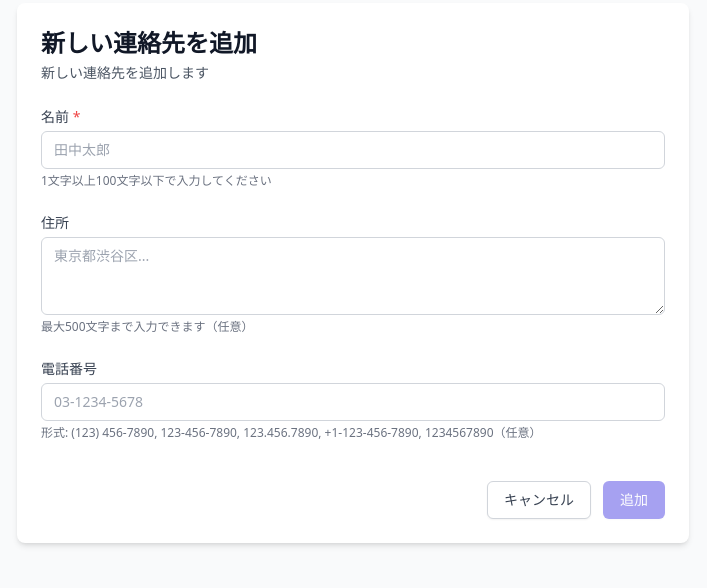
Test: ContactForm.vue › Field-specific error messages › displays error message below phone field
Type "invalid" into the field with test id "contact-phone".
click(353, 402); type("invalid")  # box [41,383,665,421]
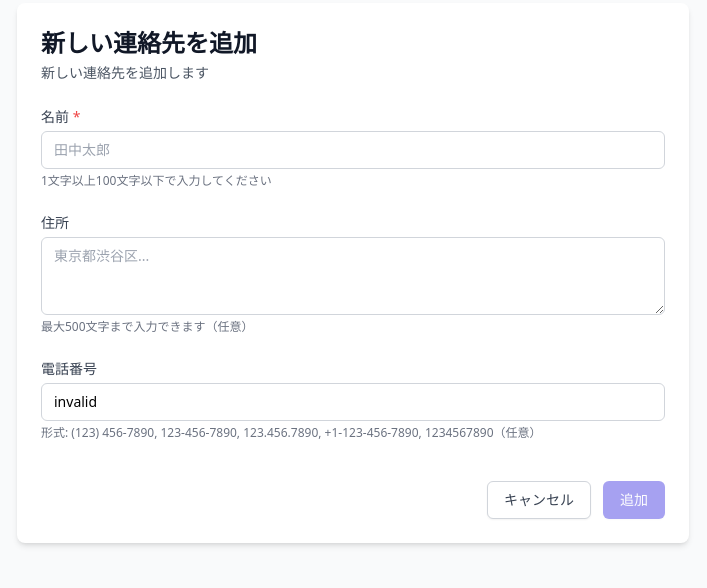
Leave the field with test id "contact-phone", box [41,383,665,421]
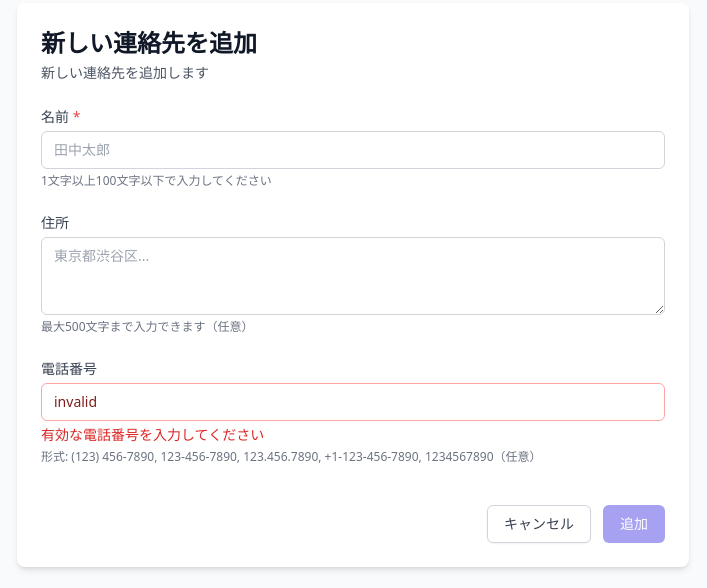
Result: the text "有効な電話番号を入力してください" is shown at [41,425,264,444]
